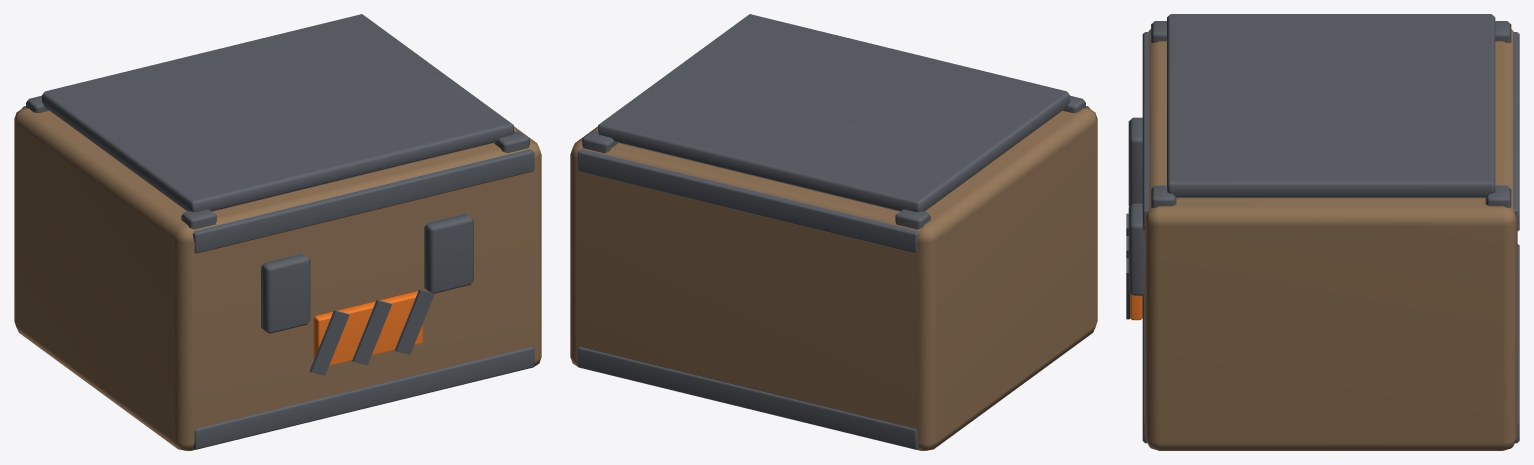
The model's file is weapons_crate.glb.
3 views of the same model, side by side, from view 1: azimuth 30°, elevation 25°; view 2: azimuth 150°, elevation 25°; view 3: azimuth 270°, elevation 25° (orthographic). The views are drawn at different scales.
Parts seen in each view (by area): view 1: weapons_crate; view 2: weapons_crate; view 3: weapons_crate.
Boxes of the visible parts, left/top/right/bottom form: weapons_crate: left=14, top=14, right=541, bottom=450; weapons_crate: left=570, top=14, right=1097, bottom=450; weapons_crate: left=1126, top=14, right=1519, bottom=450.
Bounding box in the file's own units: 2.15 × 1.37 × 1.86.
